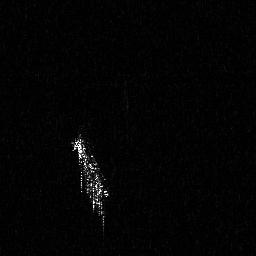ship: (70, 128, 113, 237)
